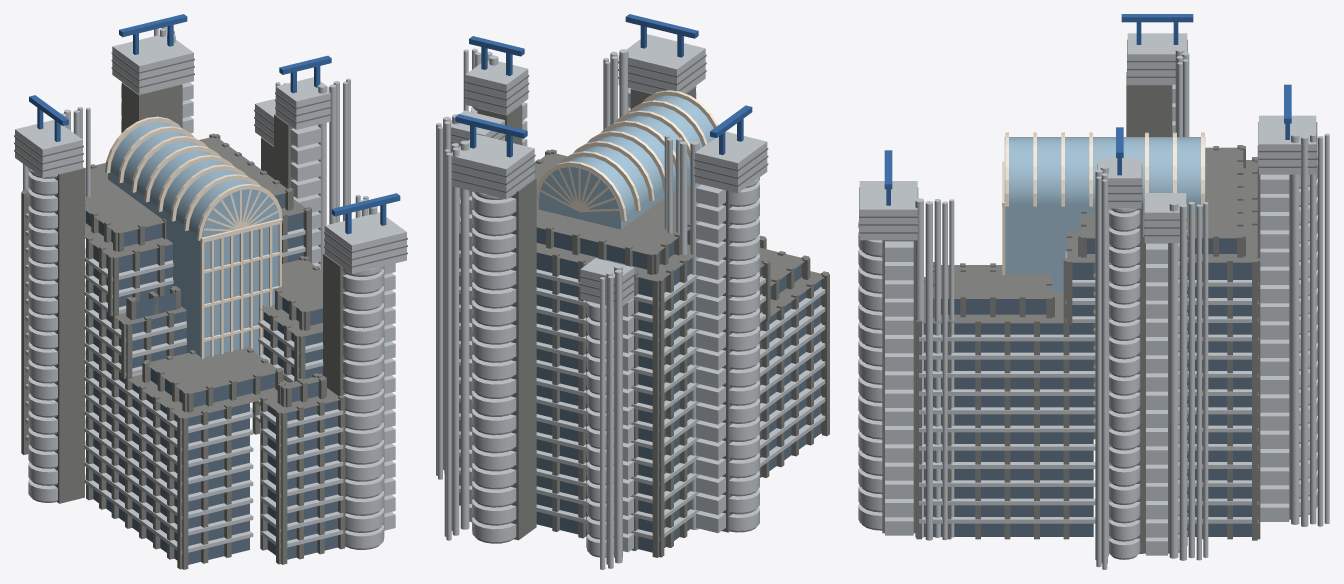
File: london-lloyds-building.detail.glb
The picture shows the model from 3 angles, left to right: view 1: azimuth 30°, elevation 25°; view 2: azimuth 150°, elevation 25°; view 3: azimuth 270°, elevation 25°; orthographic projection. The views are drawn at different scales.
Parts seen in each view (by area): view 1: Lloyd's Building; view 2: Lloyd's Building; view 3: Lloyd's Building.
Boxes of the visible parts, <box> form: Lloyd's Building: <box>14,14,407,569</box>; Lloyd's Building: <box>436,14,829,569</box>; Lloyd's Building: <box>858,14,1329,569</box>.
Bounding box in the file's own units: 76.8 × 94.5 × 98.47.
